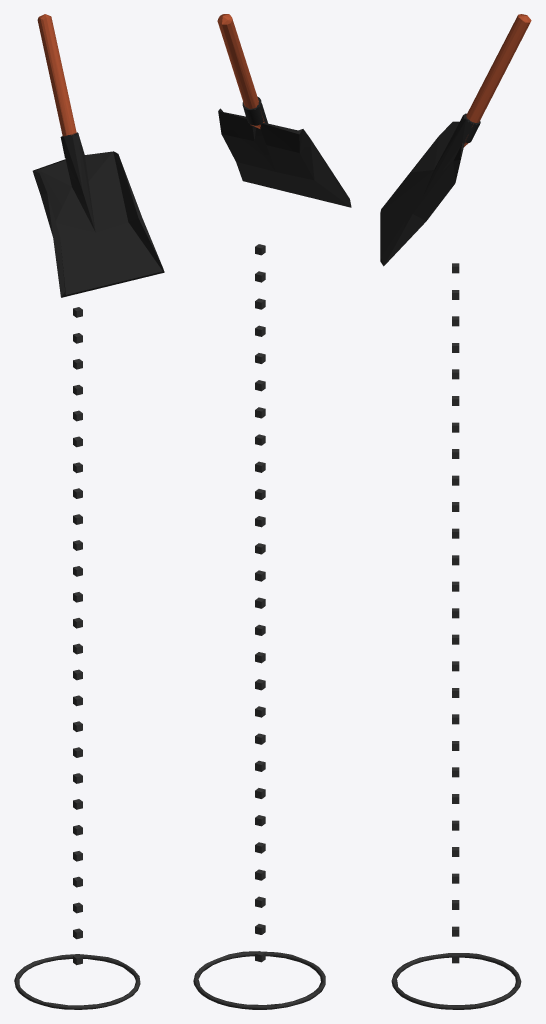
The model's file is Ftiari.fbx.
The picture shows the model from 3 angles, left to right: view 1: azimuth 30°, elevation 25°; view 2: azimuth 150°, elevation 25°; view 3: azimuth 270°, elevation 25°; orthographic projection. The views are drawn at different scales.
Parts seen in each view (by area): view 1: ftiari, kibakia 2 - Copy, xerouli 2; view 2: ftiari, kibakia 2 - Copy, xerouli 2; view 3: ftiari, kibakia 2 - Copy, xerouli 2.
Part boxes in pixels (<box>): ftiari: <box>32,133,164,297</box>; kibakia 2 - Copy: <box>14,307,140,1009</box>; xerouli 2: <box>37,14,76,136</box>; ftiari: <box>218,103,351,207</box>; kibakia 2 - Copy: <box>193,244,325,1009</box>; xerouli 2: <box>217,14,264,128</box>; ftiari: <box>380,115,473,266</box>; kibakia 2 - Copy: <box>391,263,521,1009</box>; xerouli 2: <box>463,14,531,147</box>.
Size of the model in its own units: 0.2663 by 0.3101 by 2.19.
